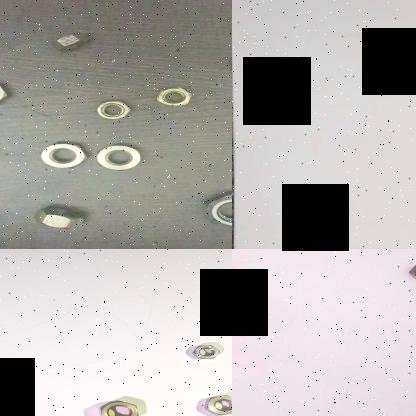NUTS: (27, 141, 95, 174), (20, 203, 90, 231), (90, 141, 146, 174), (197, 190, 232, 235), (152, 86, 199, 110), (49, 32, 94, 52), (93, 100, 133, 122), (95, 398, 141, 416), (0, 77, 21, 112), (201, 394, 232, 416), (190, 343, 224, 361), (222, 51, 232, 74), (405, 262, 416, 282)
